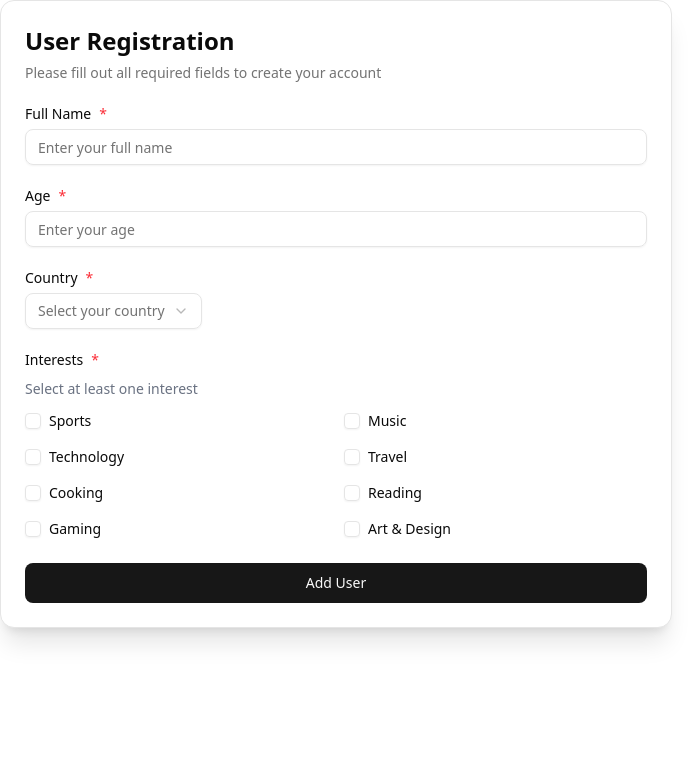
Test: UserForm › Error Clearing › clears interests error when user selects an interest
This screenshot has width=689, height=778.
Click the button "Add User".
click(336, 583)  # box [25,563,647,603]
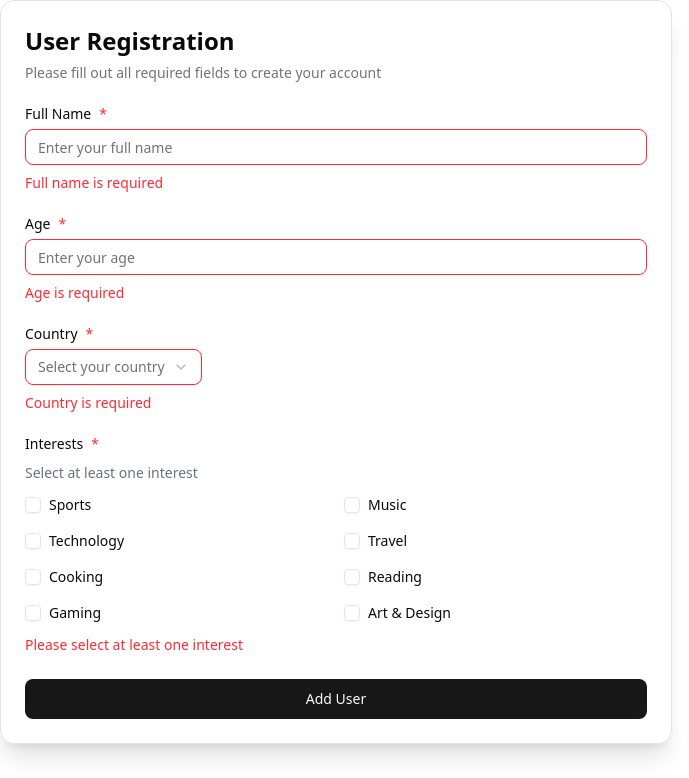
Now the text "Please select at least one interest" is shown, box [25,635,243,654]
Click the checkbox named "Sports" next to "Sports".
click(33, 505)  # box [25,497,41,513]
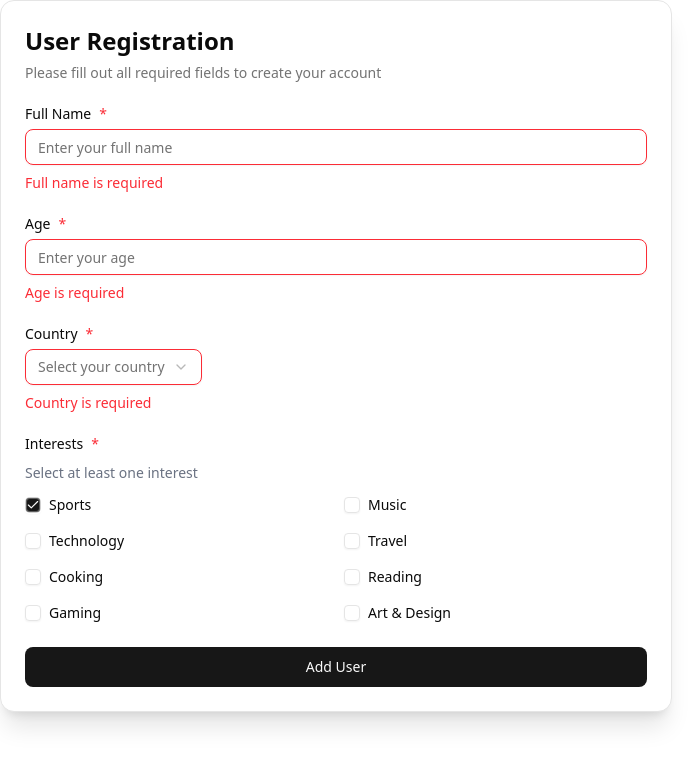
Now the text "Please select at least one interest" is gone
